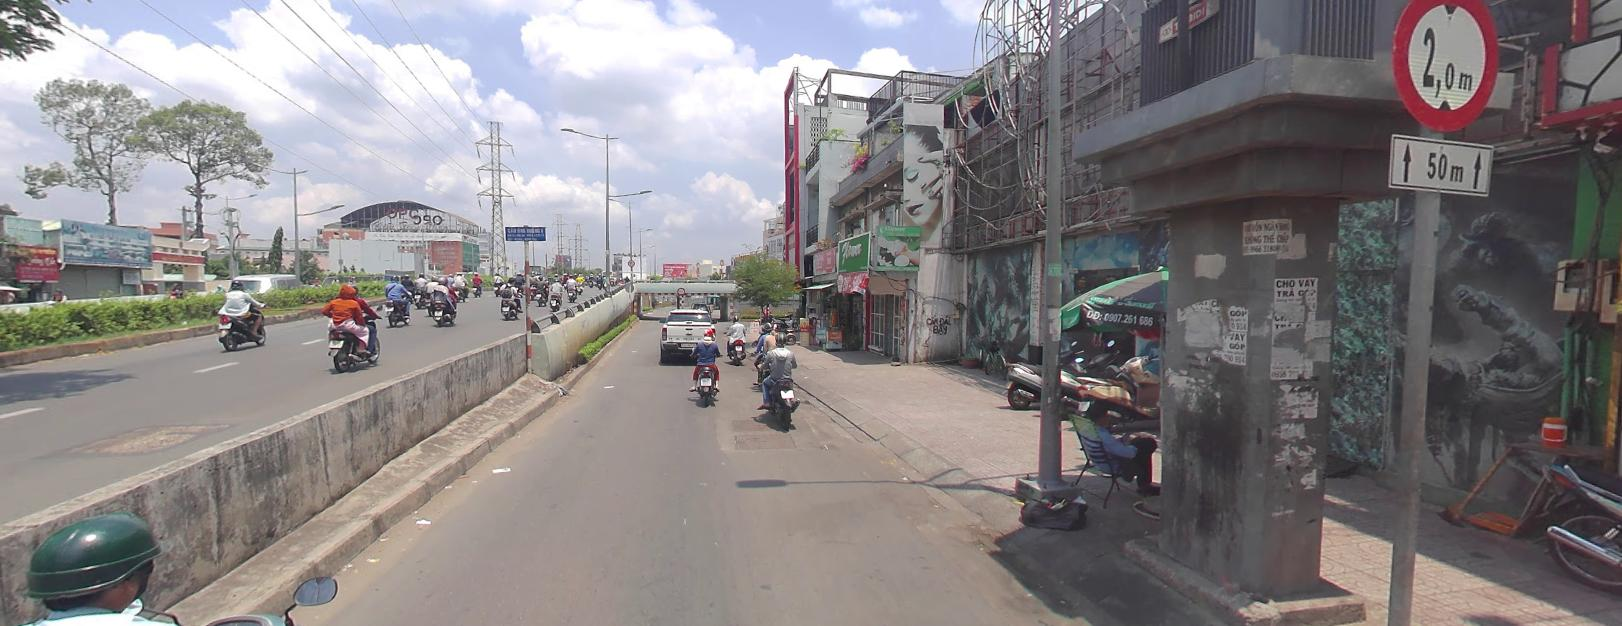Cam con lai: (1391, 1, 1499, 132), (675, 286, 684, 293)
Cam re: (627, 258, 634, 265)
